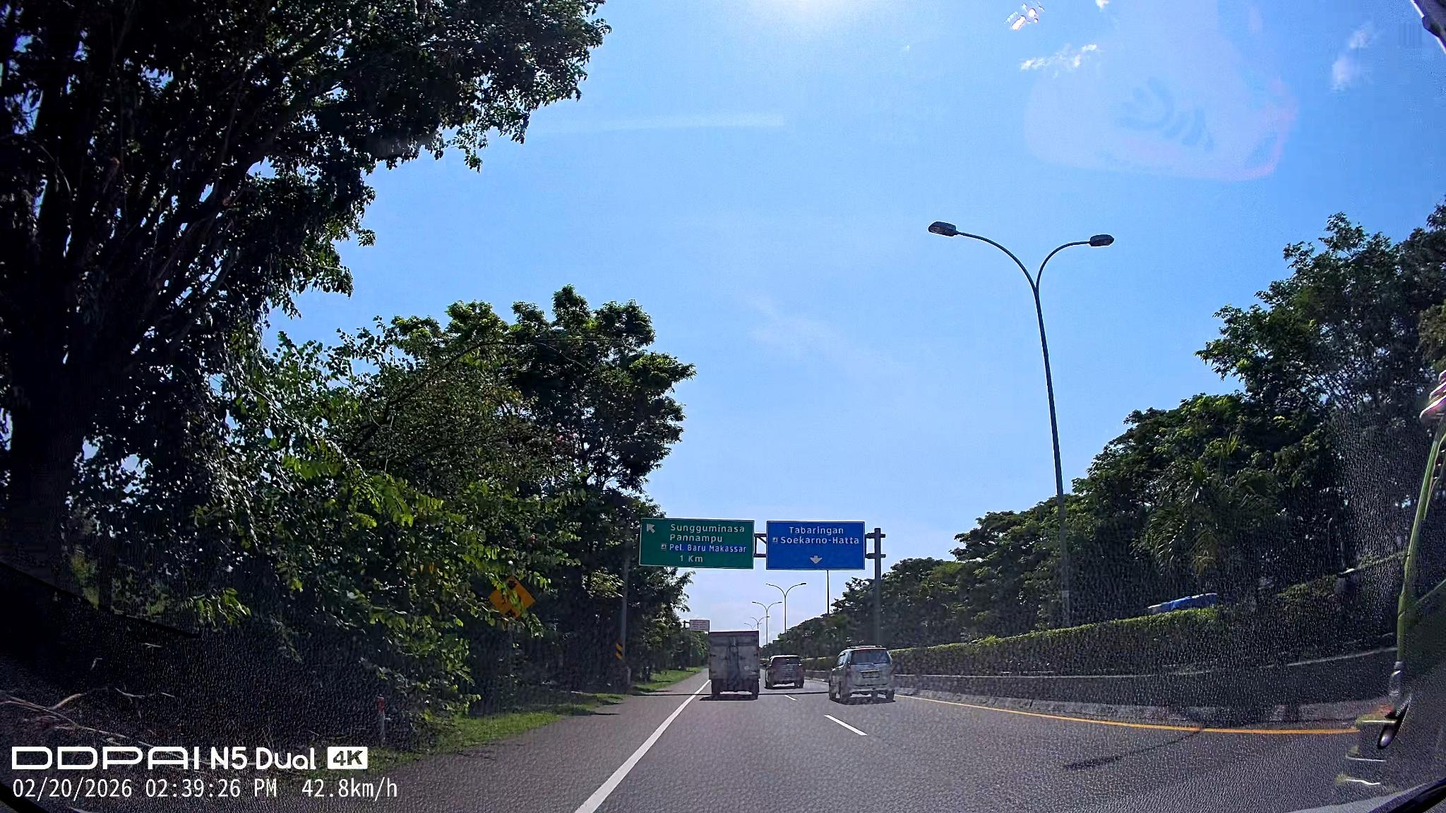rambu_teks: (638, 517, 754, 570), (765, 519, 865, 571)
